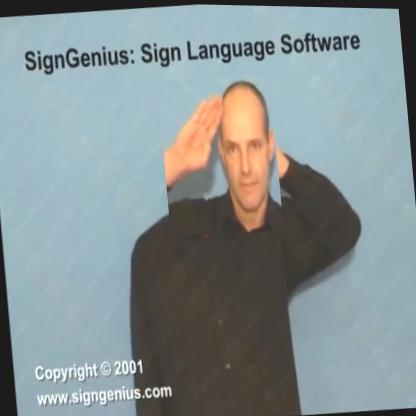Hello: (157, 71, 284, 238), (145, 60, 165, 76)
